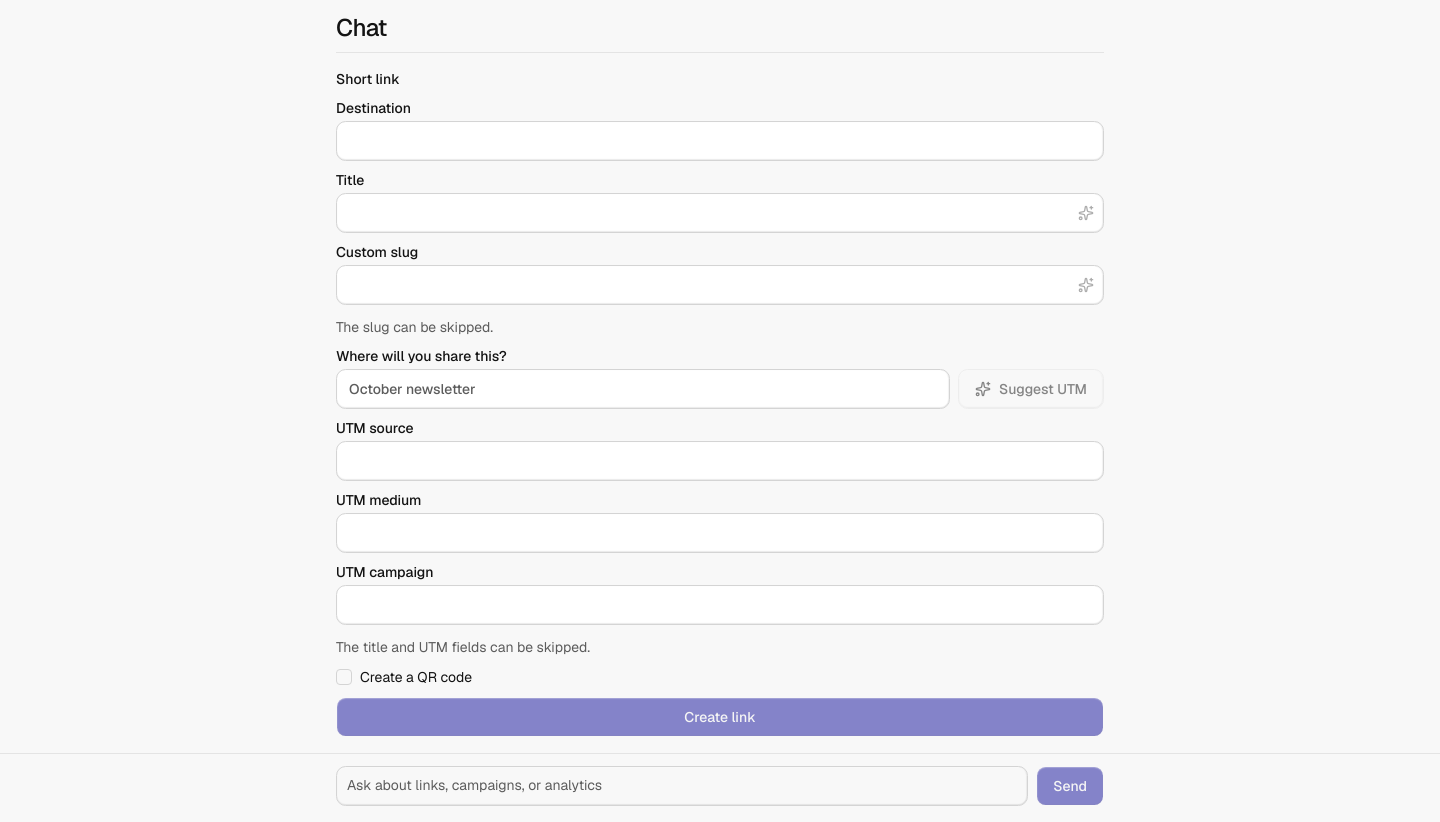
Test: chat conversation › shows a failed slug suggestion in the slug tooltip
In the field labelled "Destination": coordinates (720, 141) top-left (336, 121), bottom-right (1104, 161), type "https://example.com"
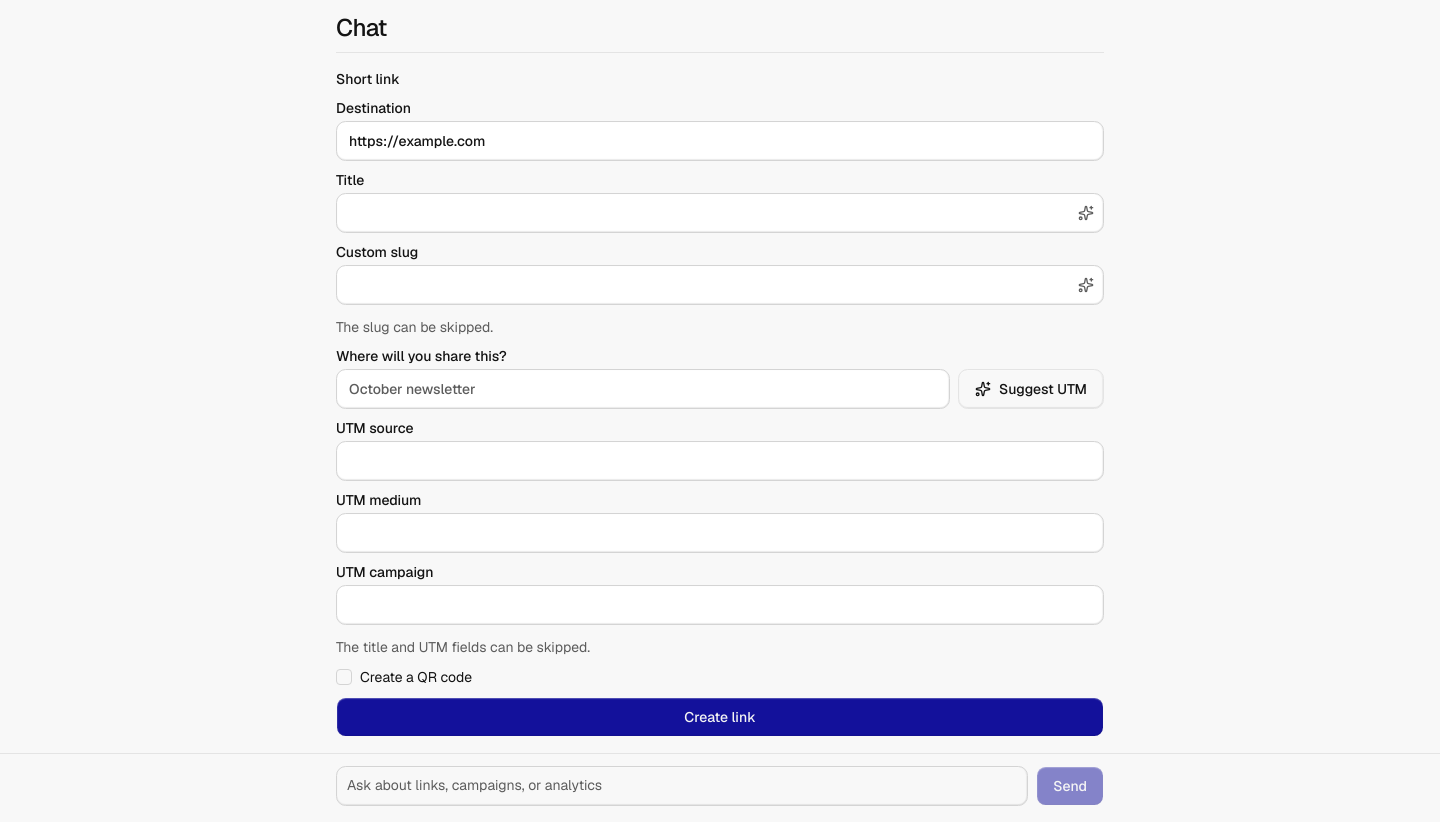
Click the button named "Suggest a slug": coordinates (1086, 285) top-left (1072, 271), bottom-right (1100, 299)
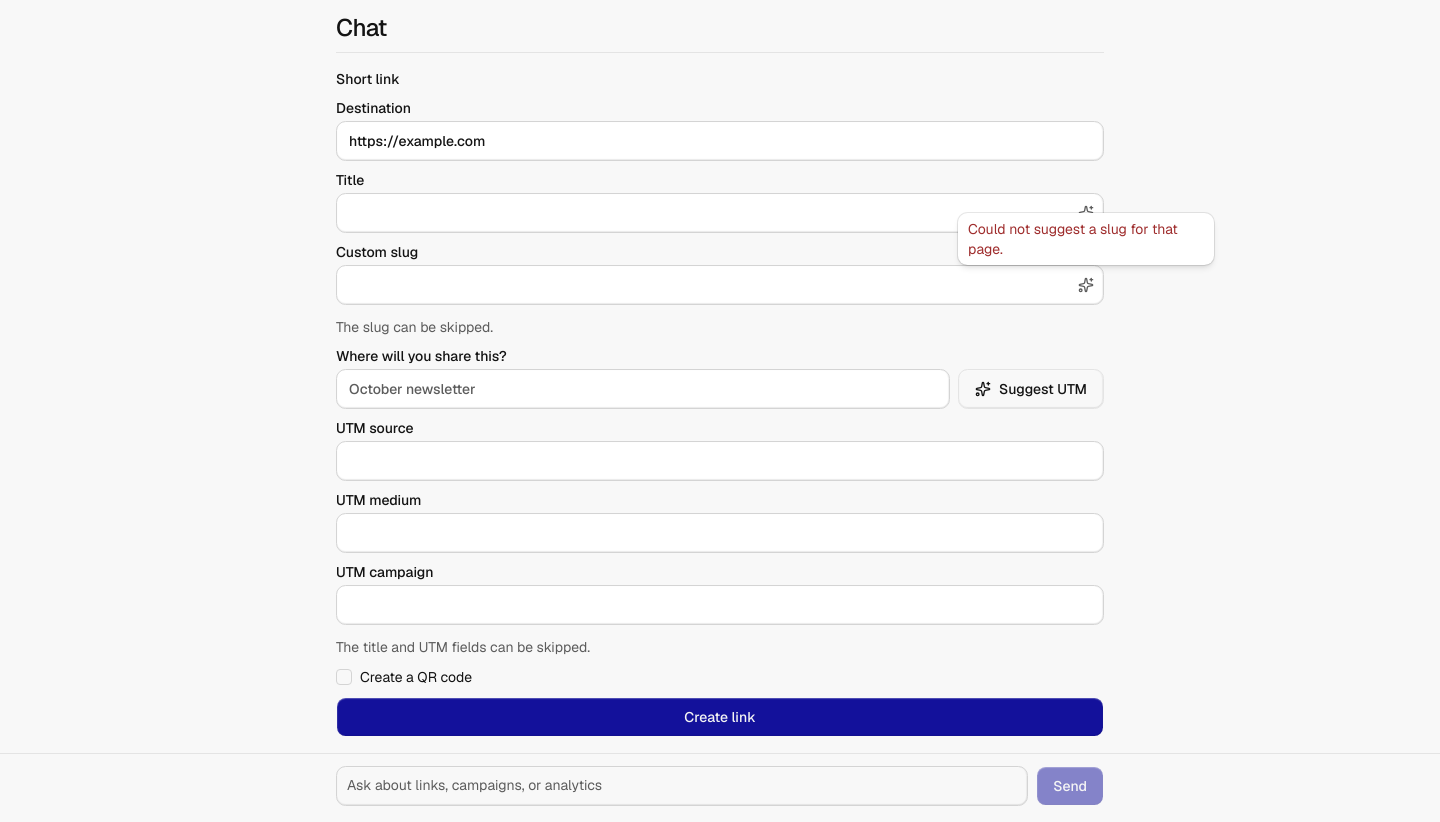
Now the tooltip reads "Could not suggest a slug for that page.", box top-left (968, 220), bottom-right (1178, 258)
